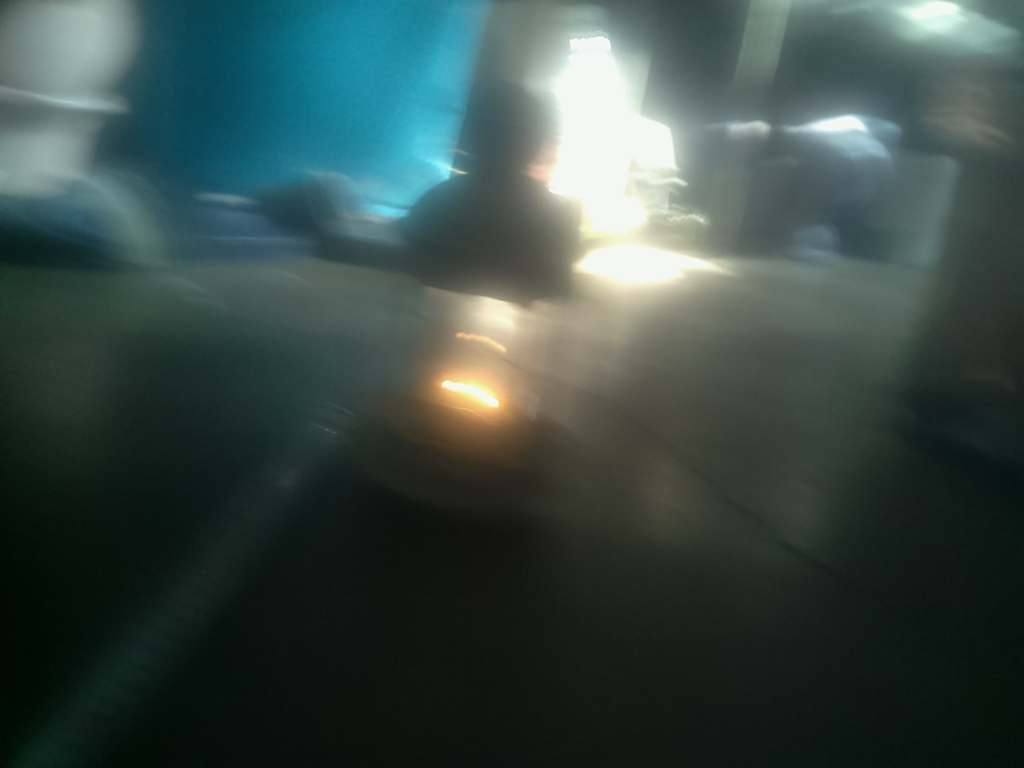fire: (427, 346, 518, 439)
